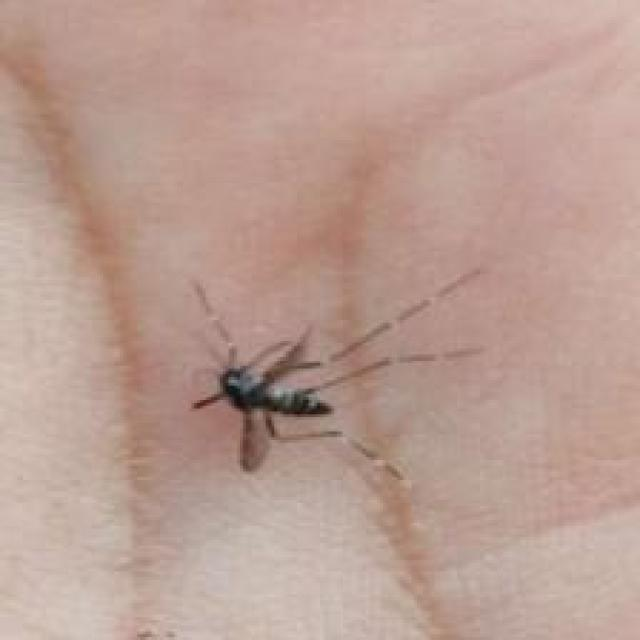Aedes albopictus: (185, 266, 486, 483)
